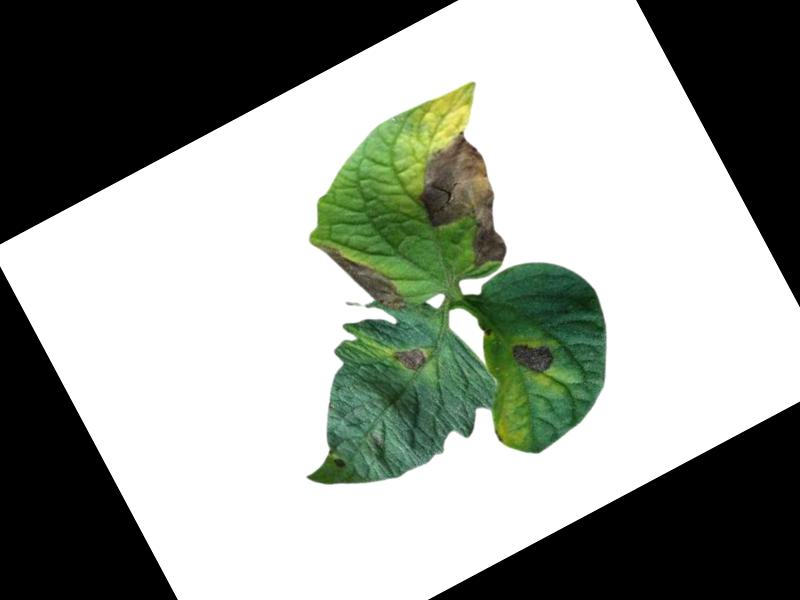Early_blight: (397, 127, 531, 285), (311, 223, 408, 334), (506, 329, 559, 383), (389, 338, 431, 379), (330, 454, 347, 473)
